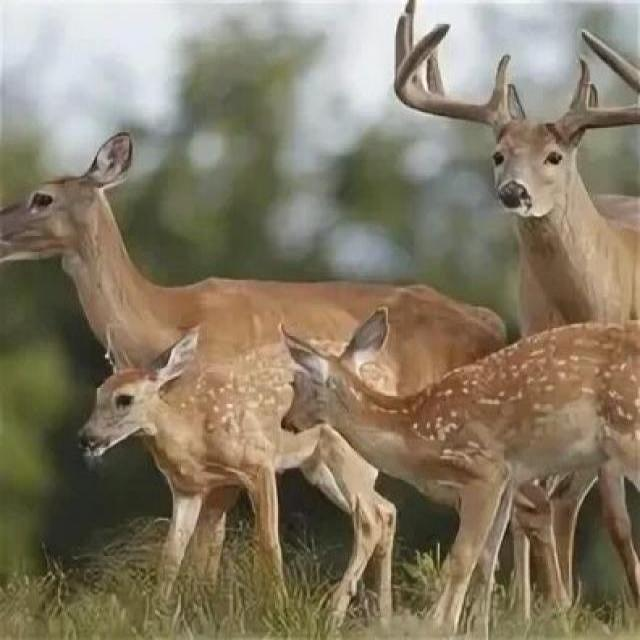deer: (32, 140, 502, 428), (323, 309, 640, 580), (393, 11, 640, 352), (76, 322, 358, 545)
